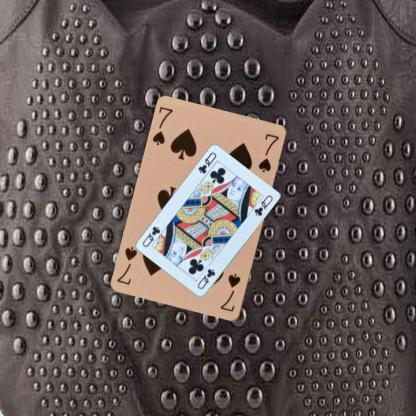7s: (218, 271, 242, 314), (150, 104, 174, 146)
Qc: (195, 150, 218, 175), (194, 266, 216, 291)
